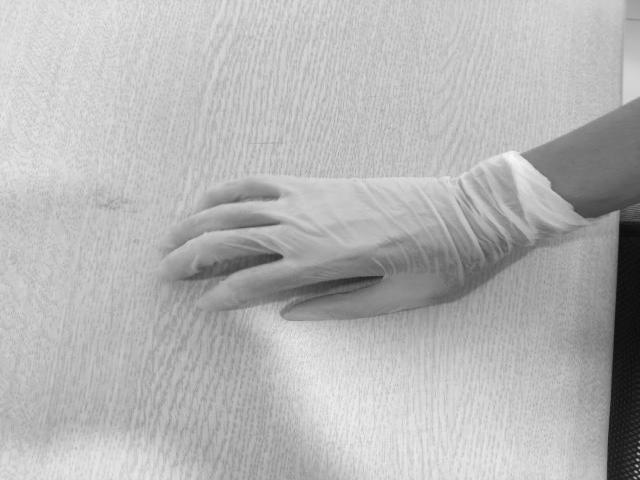gloved: (160, 175, 471, 320)
